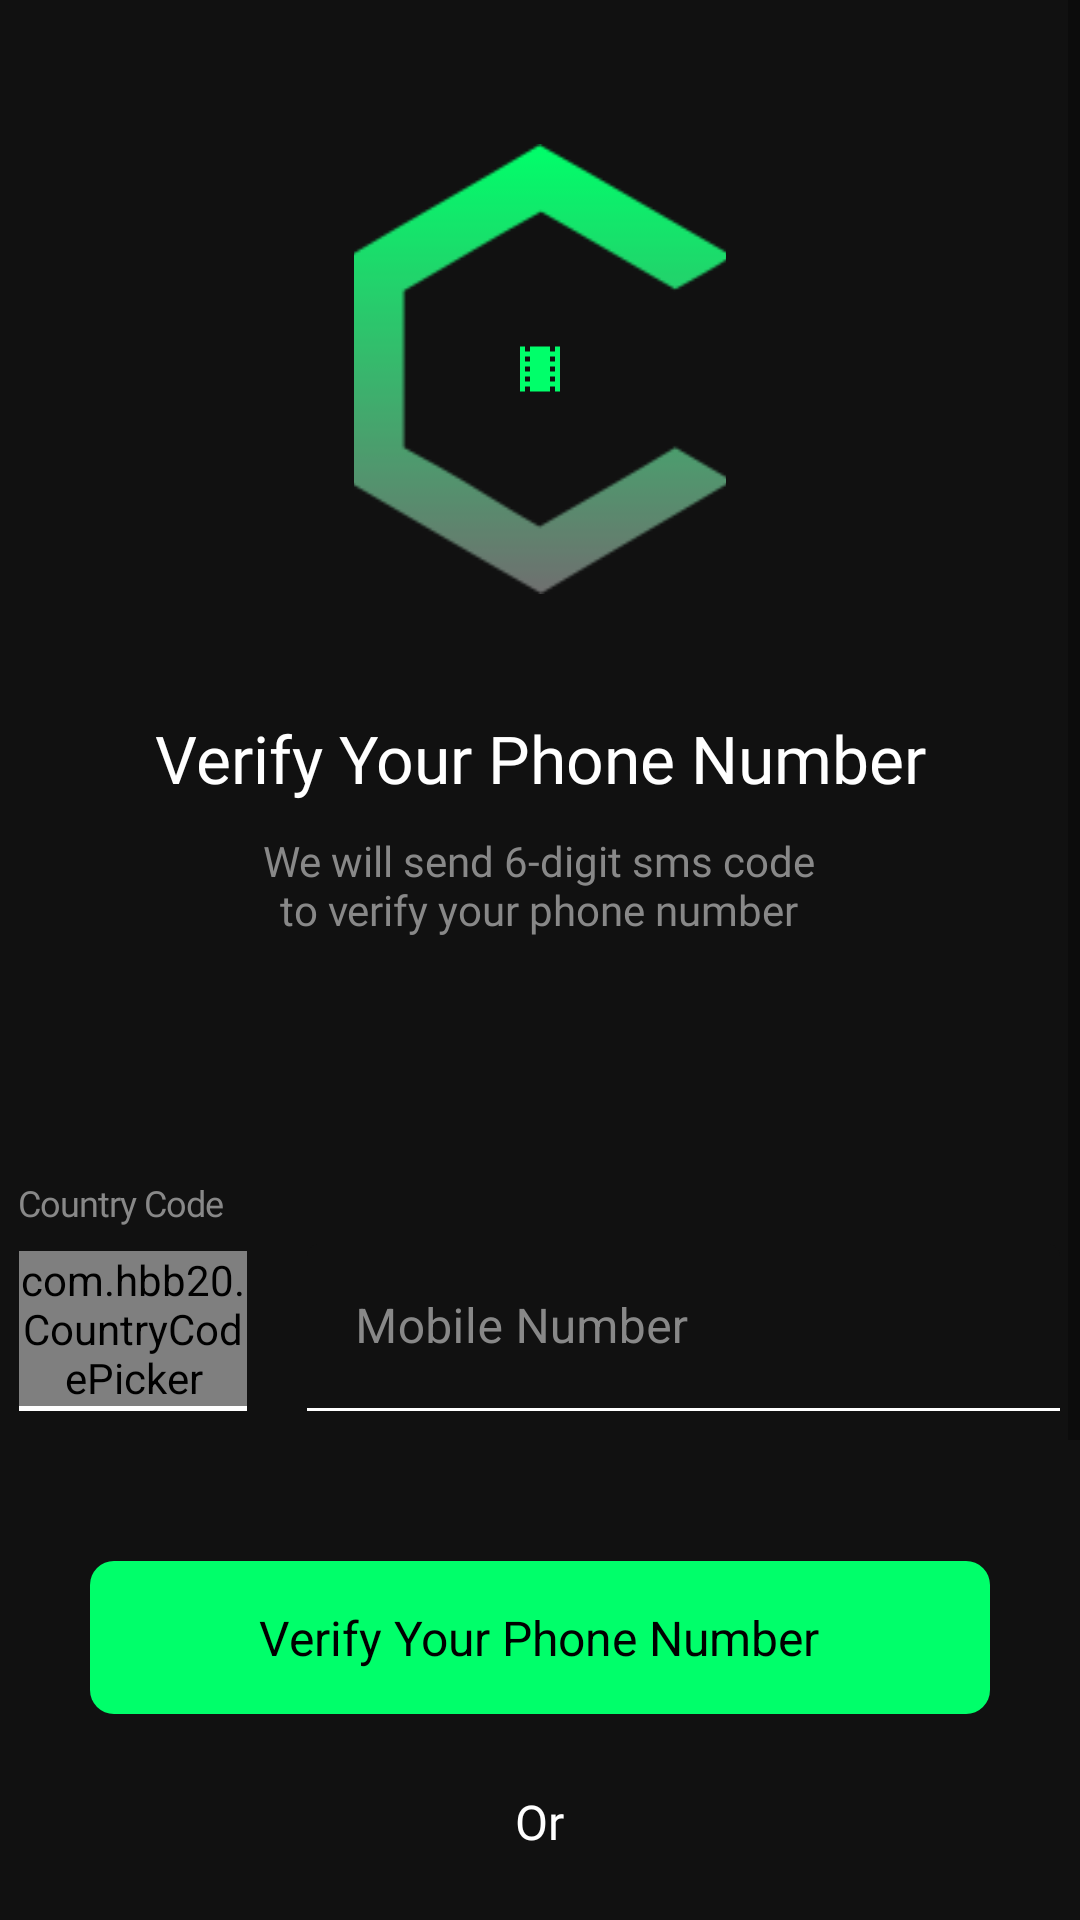

Named icons in this screenshot (1080w x 1920h) and their centers, (x,y):
local movies: (540,369)
